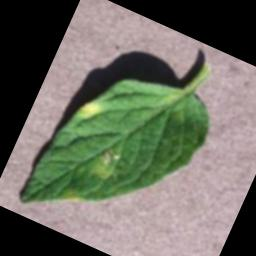Leaf_Mold: (75, 97, 105, 125), (63, 188, 86, 207)
